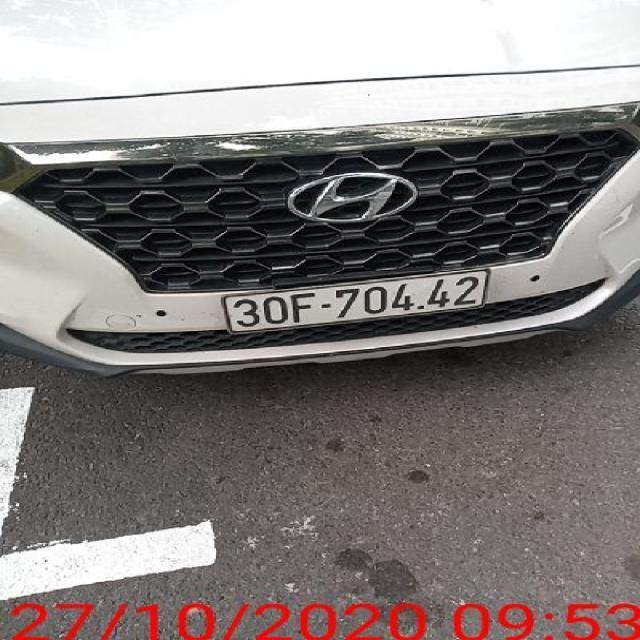bien_so_oto: (222, 268, 491, 334)
